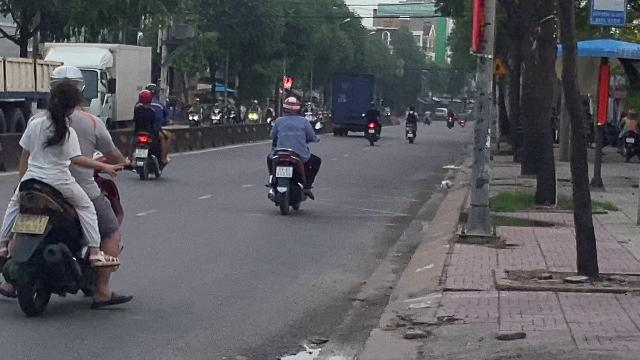helmet: (48, 64, 84, 88), (282, 96, 300, 114), (136, 89, 152, 104)
licenseplate: (14, 214, 48, 234), (276, 166, 292, 176), (136, 150, 148, 158)
motorcyclist: (0, 65, 130, 319), (262, 96, 322, 214), (129, 86, 171, 180)
nohelmet: (46, 81, 82, 118)
